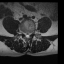CCS_normal: (26, 31, 28, 40)
LFS_normal: (30, 30, 32, 36)
LLS_normal: (28, 31, 30, 38)
RFS_normal: (22, 29, 24, 36)
RLS_normal: (24, 30, 26, 38)
